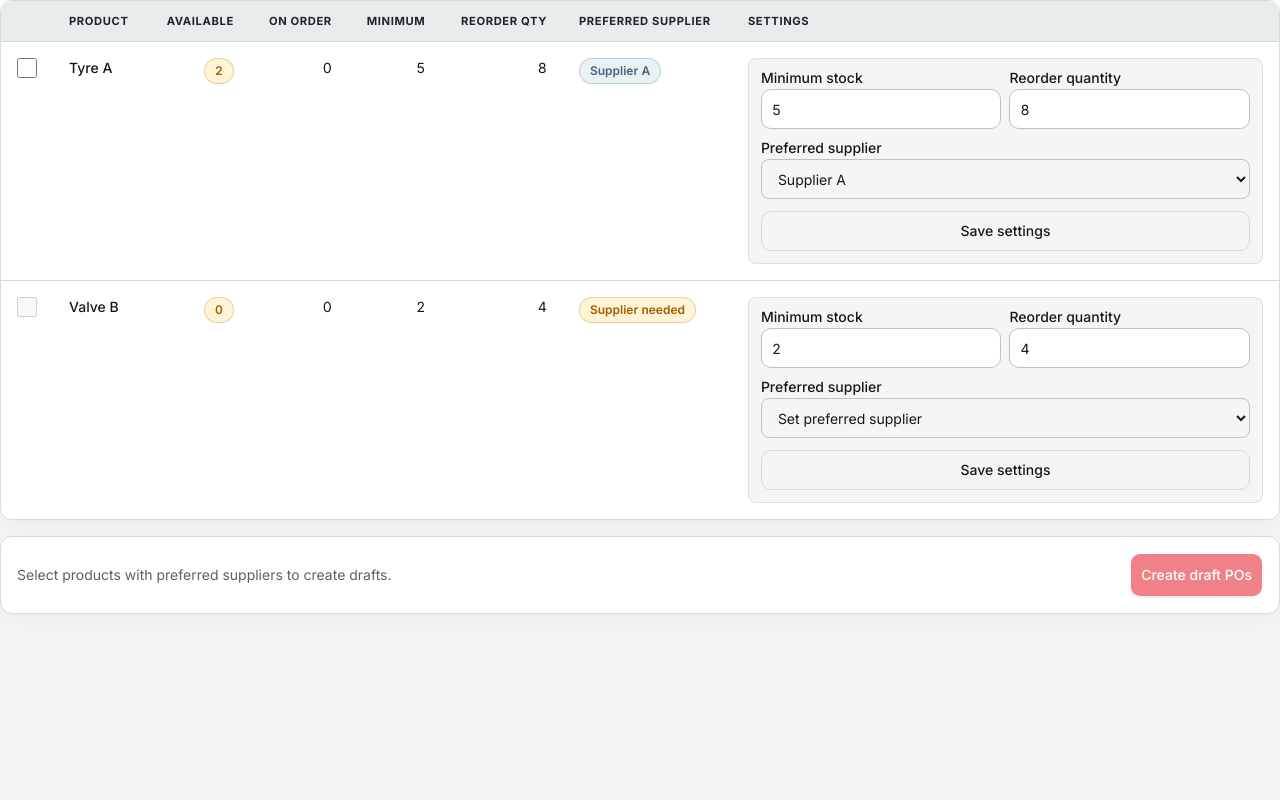
it: ReorderTable › disables missing-supplier rows and the create button until selection
The image size is (1280, 800).
Expected: the checkbox named "Select Valve B" is disabled, [17, 297, 37, 317]
Expected: the button "Create draft POs" is disabled, [1130, 553, 1263, 597]
Click the checkbox named "Select Tyre A": (27, 68) [17, 58, 37, 78]
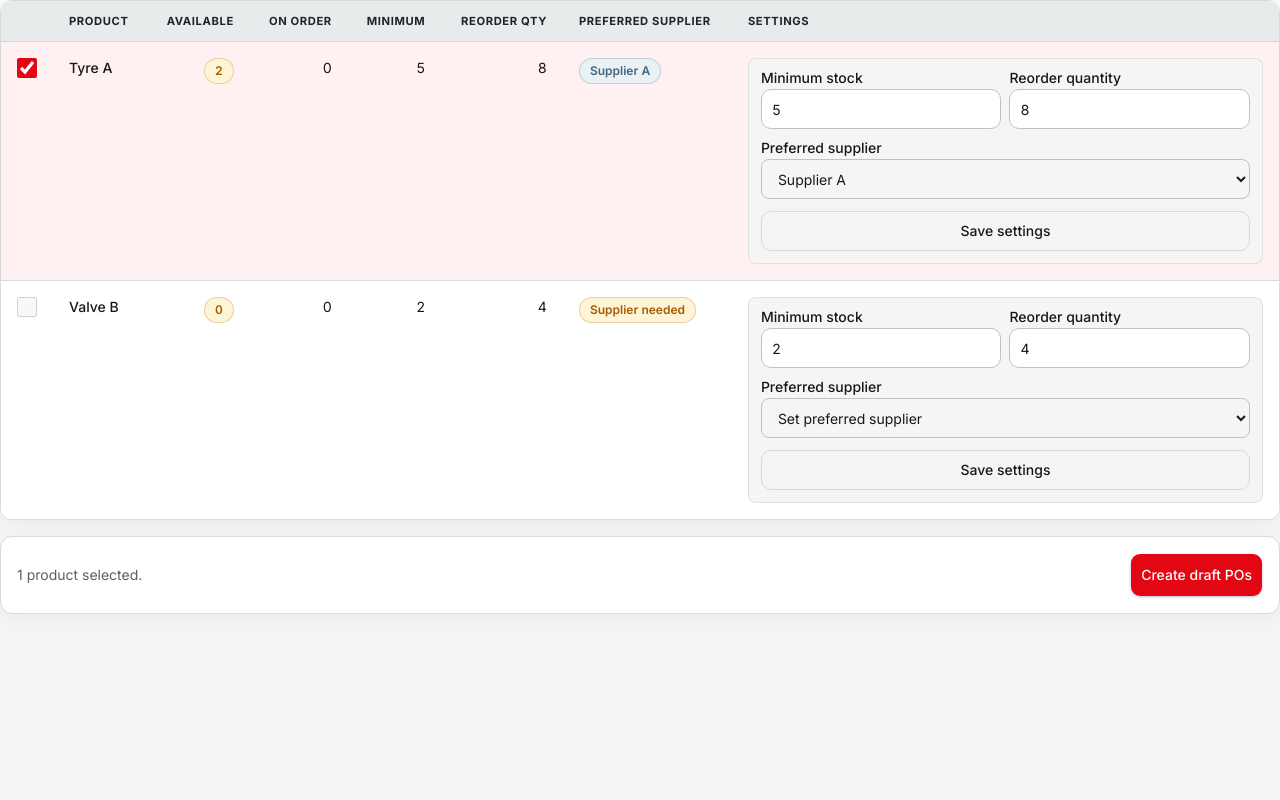
Expected: the button "Create draft POs" is enabled, [1130, 553, 1263, 597]
